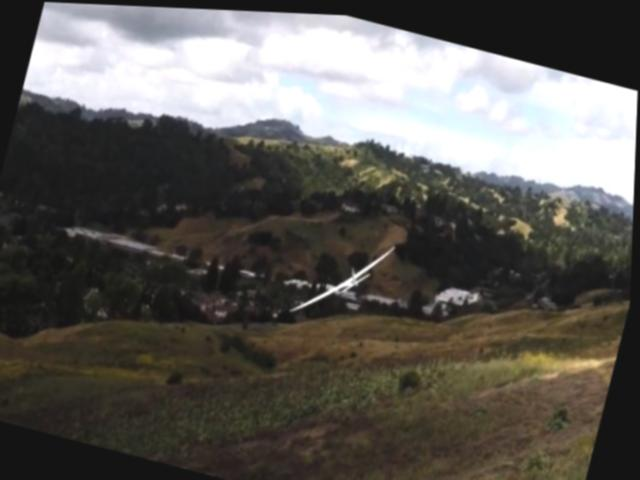iha: (293, 218, 404, 332)
